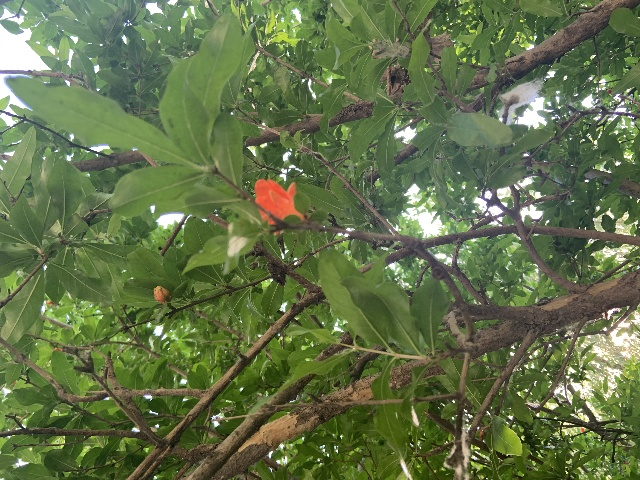bud: (153, 285, 169, 304)
flower: (253, 179, 305, 228)
